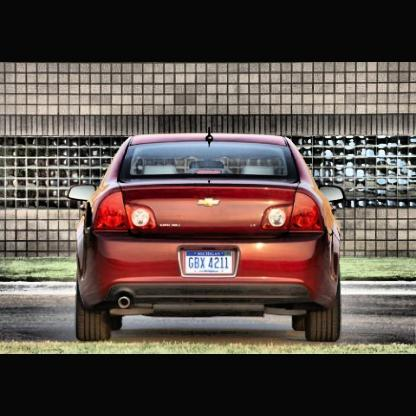Chevrolet Malibu Hybrid Sedan 2010: (71, 130, 348, 344)
